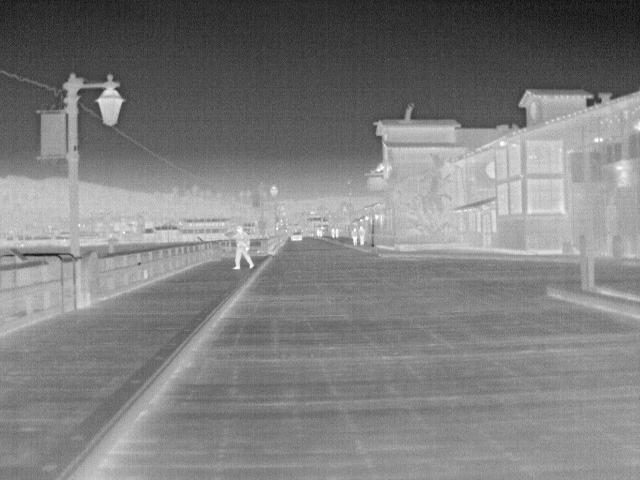car: (288, 229, 304, 242)
person: (231, 223, 255, 272), (356, 224, 366, 246), (350, 225, 359, 247), (334, 225, 341, 240), (330, 225, 337, 240)
